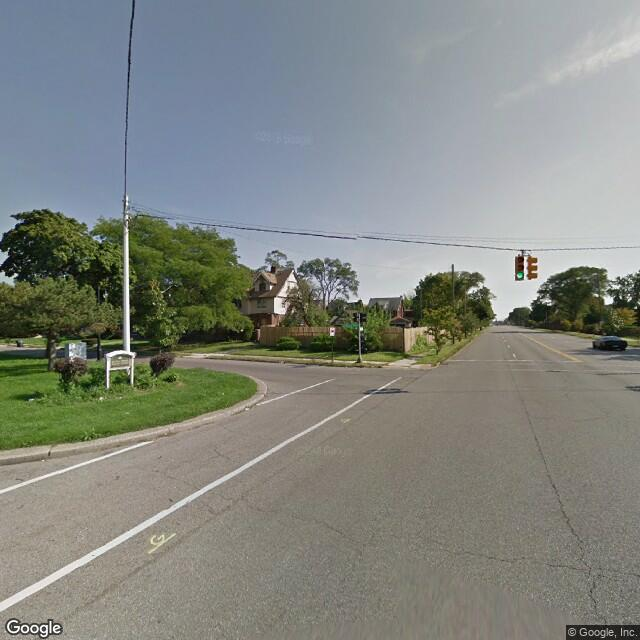litter: (28, 396, 36, 403), (244, 405, 249, 412), (98, 396, 107, 399)
